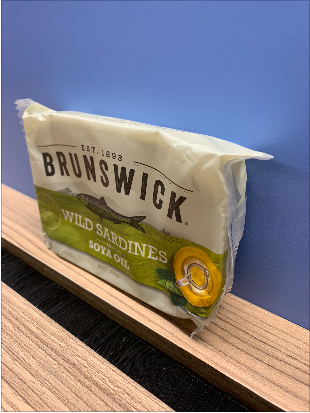Sardines_100-199g: (45, 133, 212, 293)
